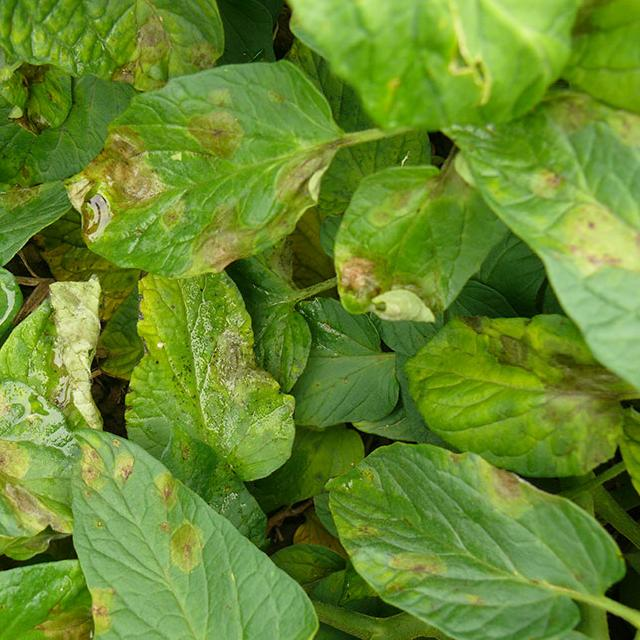Tomato leaf late blight: (45, 382, 383, 640), (70, 45, 342, 293), (320, 425, 626, 640), (90, 251, 282, 513), (394, 299, 640, 488), (322, 125, 509, 361), (0, 357, 105, 551), (0, 247, 28, 387)
